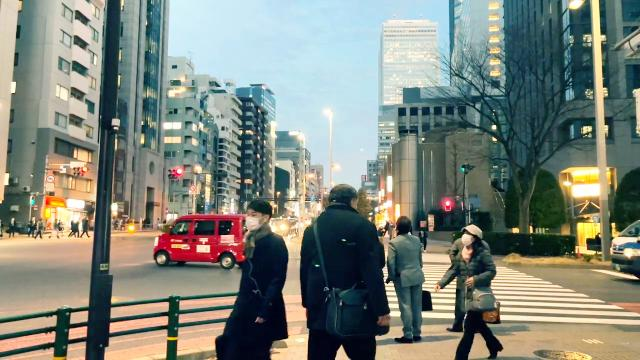berdiri: (388, 212, 432, 344)
berjalan: (296, 180, 392, 360), (212, 195, 284, 360), (432, 215, 510, 360)
